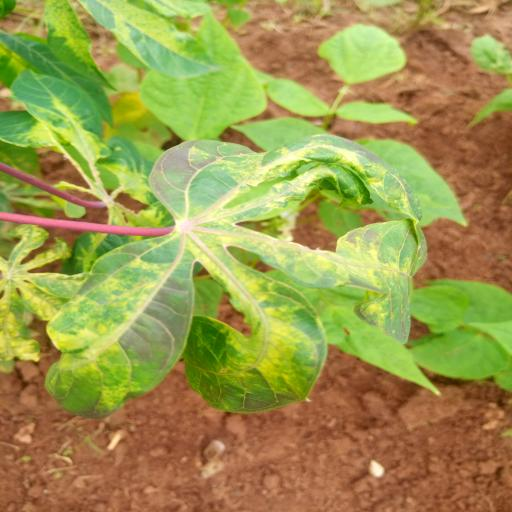Cassava_Mosaic: (40, 140, 464, 419)
